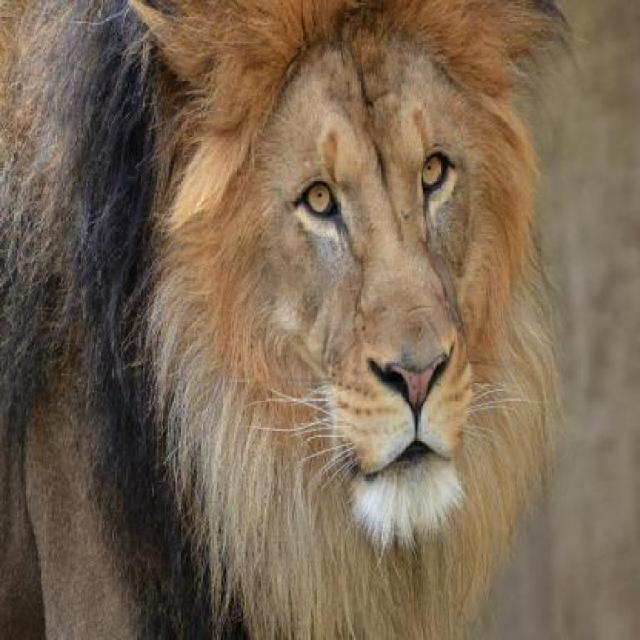Lion: (5, 4, 569, 638)
